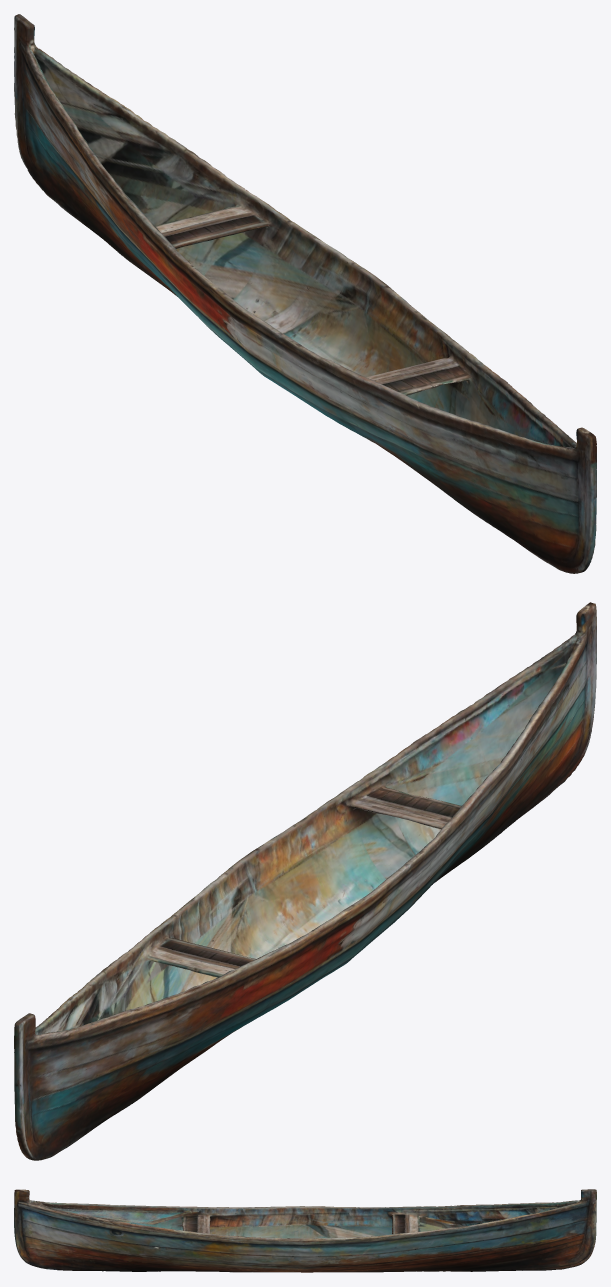
The model's file is painting_on_a_seascap_0228112551_texture.fbx.
The picture shows the model from 3 angles, top to bottom: view 1: azimuth 30°, elevation 25°; view 2: azimuth 150°, elevation 25°; view 3: azimuth 270°, elevation 25°; orthographic projection. The views are drawn at different scales.
Parts seen in each view (by area): view 1: Mesh1_Mesh1.027; view 2: Mesh1_Mesh1.027; view 3: Mesh1_Mesh1.027.
Boxes of the visible parts, box(x1,y1,x2,y2) form: Mesh1_Mesh1.027: box(14, 14, 596, 573); Mesh1_Mesh1.027: box(14, 602, 596, 1160); Mesh1_Mesh1.027: box(14, 1189, 596, 1272).
Bounding box in the file's own units: 27.5 × 30.96 × 200.
1 material, 1 textured.
